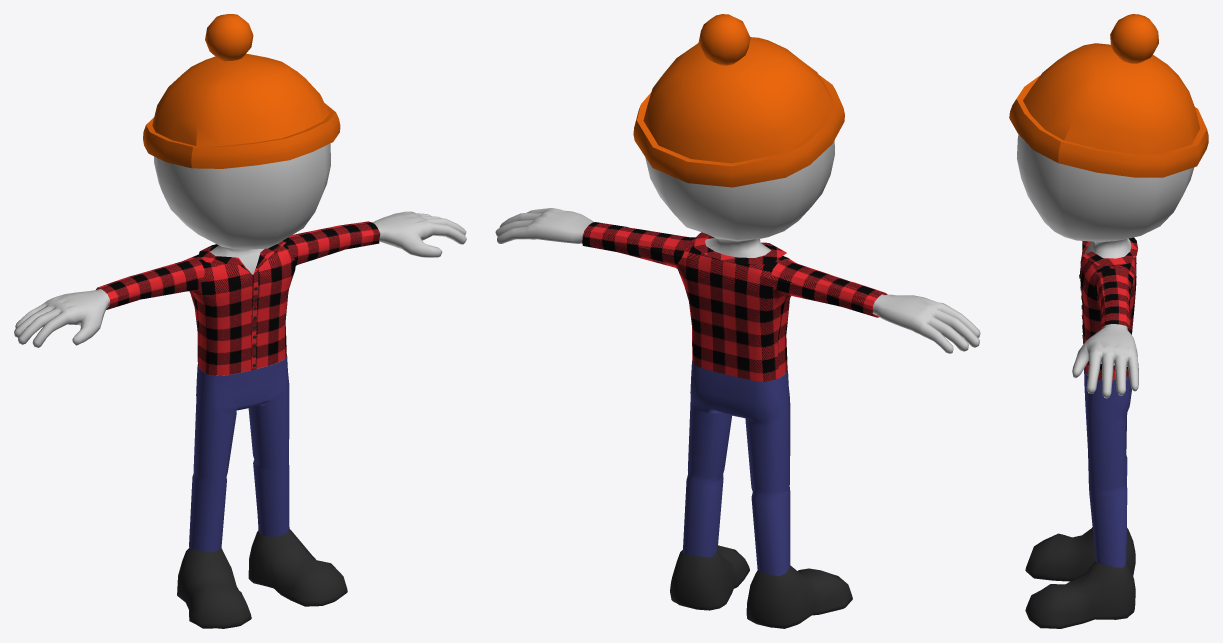
File: lamberjackman.fbx
3 views of the same model, side by side, from view 1: azimuth 30°, elevation 25°; view 2: azimuth 150°, elevation 25°; view 3: azimuth 270°, elevation 25° (orthographic). The views are drawn at different scales.
Visible parts, largest first — view 1: Cartoonish.044, Cartoonish.003, Cartoonish.001, Cartoonish.002, Cartoonish.004, Sphere; view 2: Cartoonish.003, Cartoonish.001, Cartoonish.044, Cartoonish.002, Cartoonish.004, Sphere; view 3: Cartoonish.003, Cartoonish.044, Cartoonish.004, Cartoonish.002, Cartoonish.001, Sphere.
Part boxes in pixels (x1,y1,x2,y2): Cartoonish.044: [14, 143, 466, 375]; Cartoonish.003: [143, 53, 340, 168]; Cartoonish.001: [96, 221, 380, 375]; Cartoonish.002: [189, 356, 289, 551]; Cartoonish.004: [177, 529, 347, 628]; Sphere: [205, 14, 253, 61]; Cartoonish.003: [633, 37, 844, 187]; Cartoonish.001: [582, 222, 887, 381]; Cartoonish.044: [495, 140, 980, 374]; Cartoonish.002: [682, 361, 790, 576]; Cartoonish.004: [670, 545, 852, 628]; Sphere: [698, 14, 750, 65]; Cartoonish.003: [1009, 43, 1208, 177]; Cartoonish.044: [1017, 134, 1194, 398]; Cartoonish.004: [1025, 527, 1135, 628]; Cartoonish.002: [1084, 368, 1131, 567]; Cartoonish.001: [1080, 237, 1137, 380]; Sphere: [1110, 14, 1158, 63].
Bounding box in the file's own units: 21.19 × 25.5 × 7.99.
